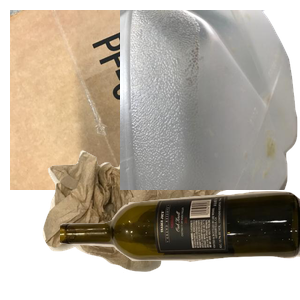cardboard: (10, 10, 250, 190)
glass: (60, 189, 300, 300)
plastic: (120, 10, 300, 190)
trash: (40, 138, 280, 300)
